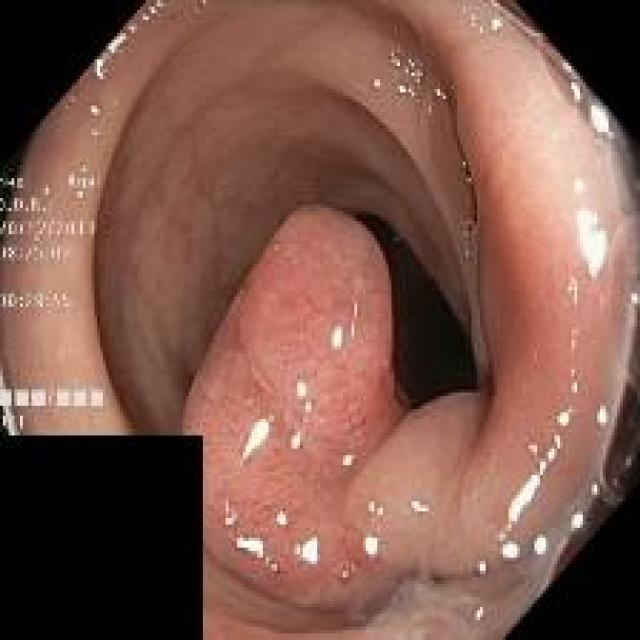Polyps: (184, 206, 416, 631)
